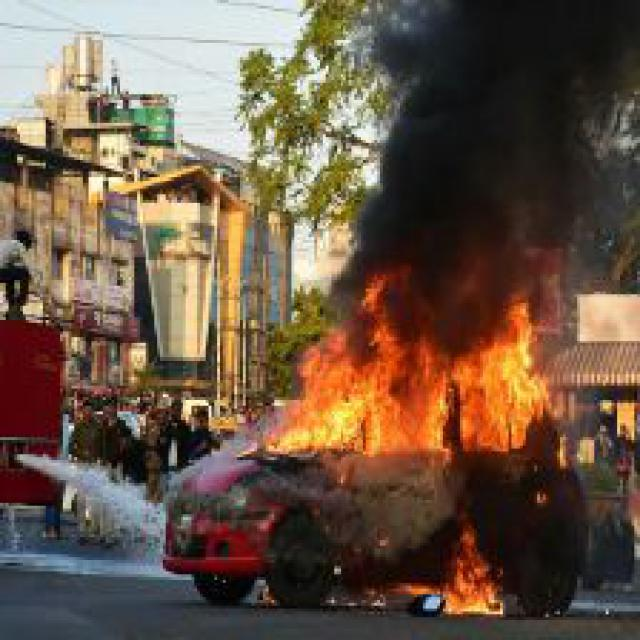fire: (257, 254, 569, 469), (406, 517, 517, 623)
